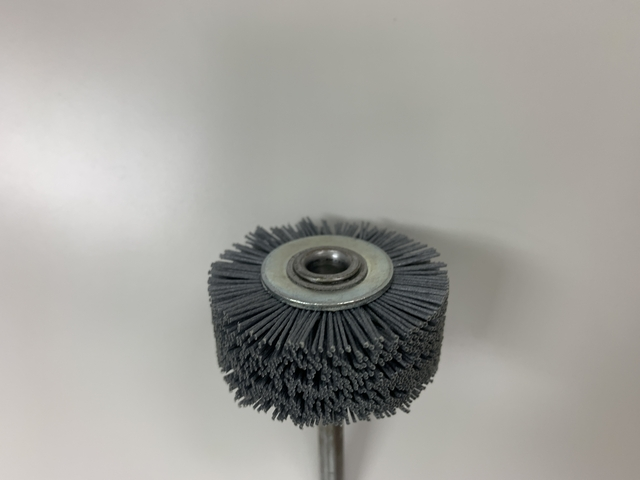Wheel Brush: (197, 209, 449, 480), (211, 220, 428, 480)
